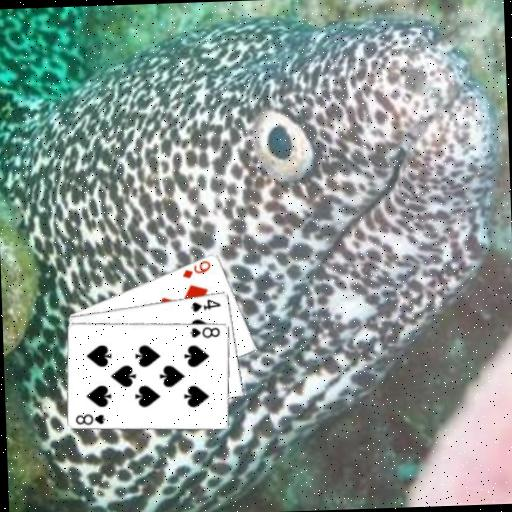4S: (188, 295, 222, 313)
8S: (186, 323, 221, 340), (72, 410, 107, 426)
9D: (179, 257, 212, 280)
